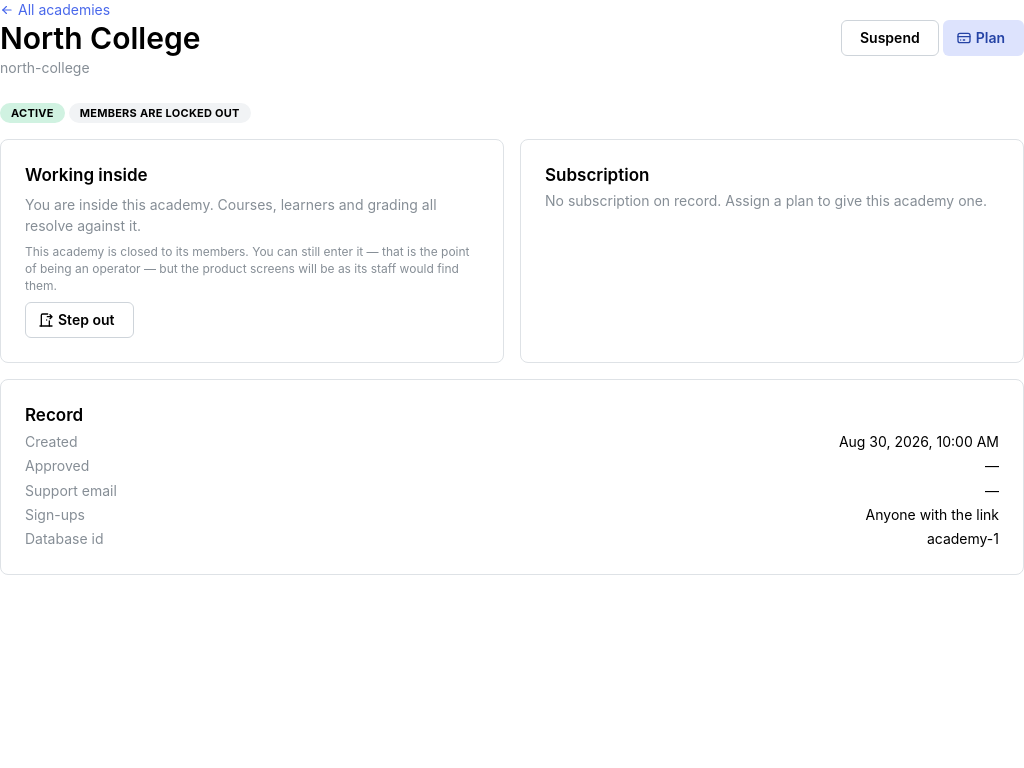
AcademyDetailRoute › explains that suspension keeps the data
Click the button "Suspend".
click(890, 38)  # box [841, 20, 939, 56]
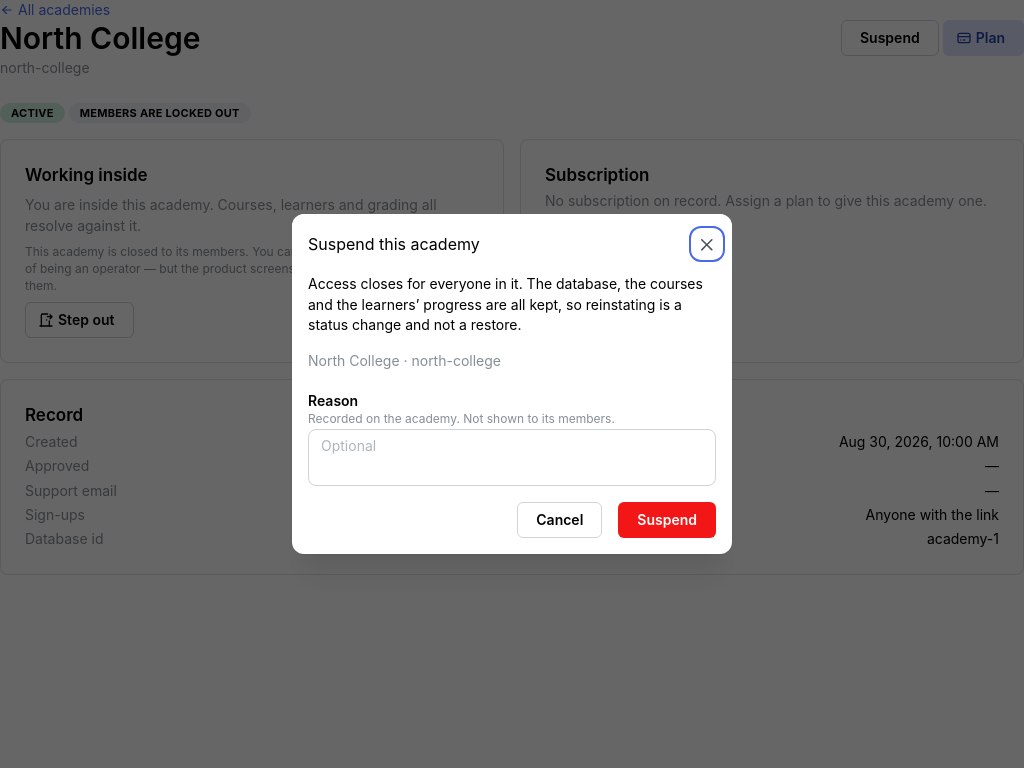
Expected: the text "reinstating is a status change and not a restore" is shown, [308, 275, 703, 333]
